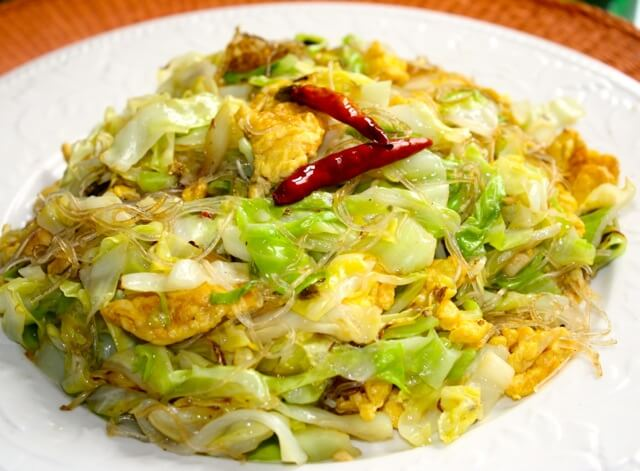chinese_cabbage: (63, 62, 555, 417), (321, 213, 561, 333), (257, 312, 438, 432), (62, 239, 227, 354), (105, 317, 275, 428), (434, 137, 583, 255), (417, 254, 559, 363), (238, 203, 408, 294), (100, 93, 251, 190), (355, 69, 480, 135)
